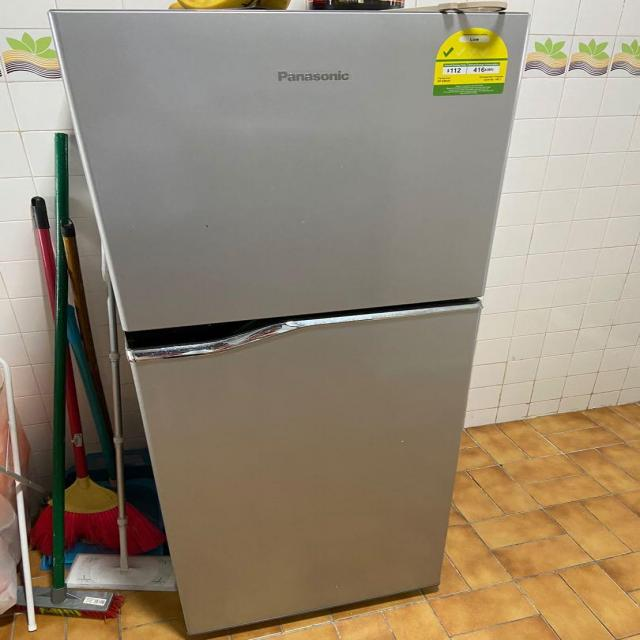refrigerator: (48, 10, 534, 640)
